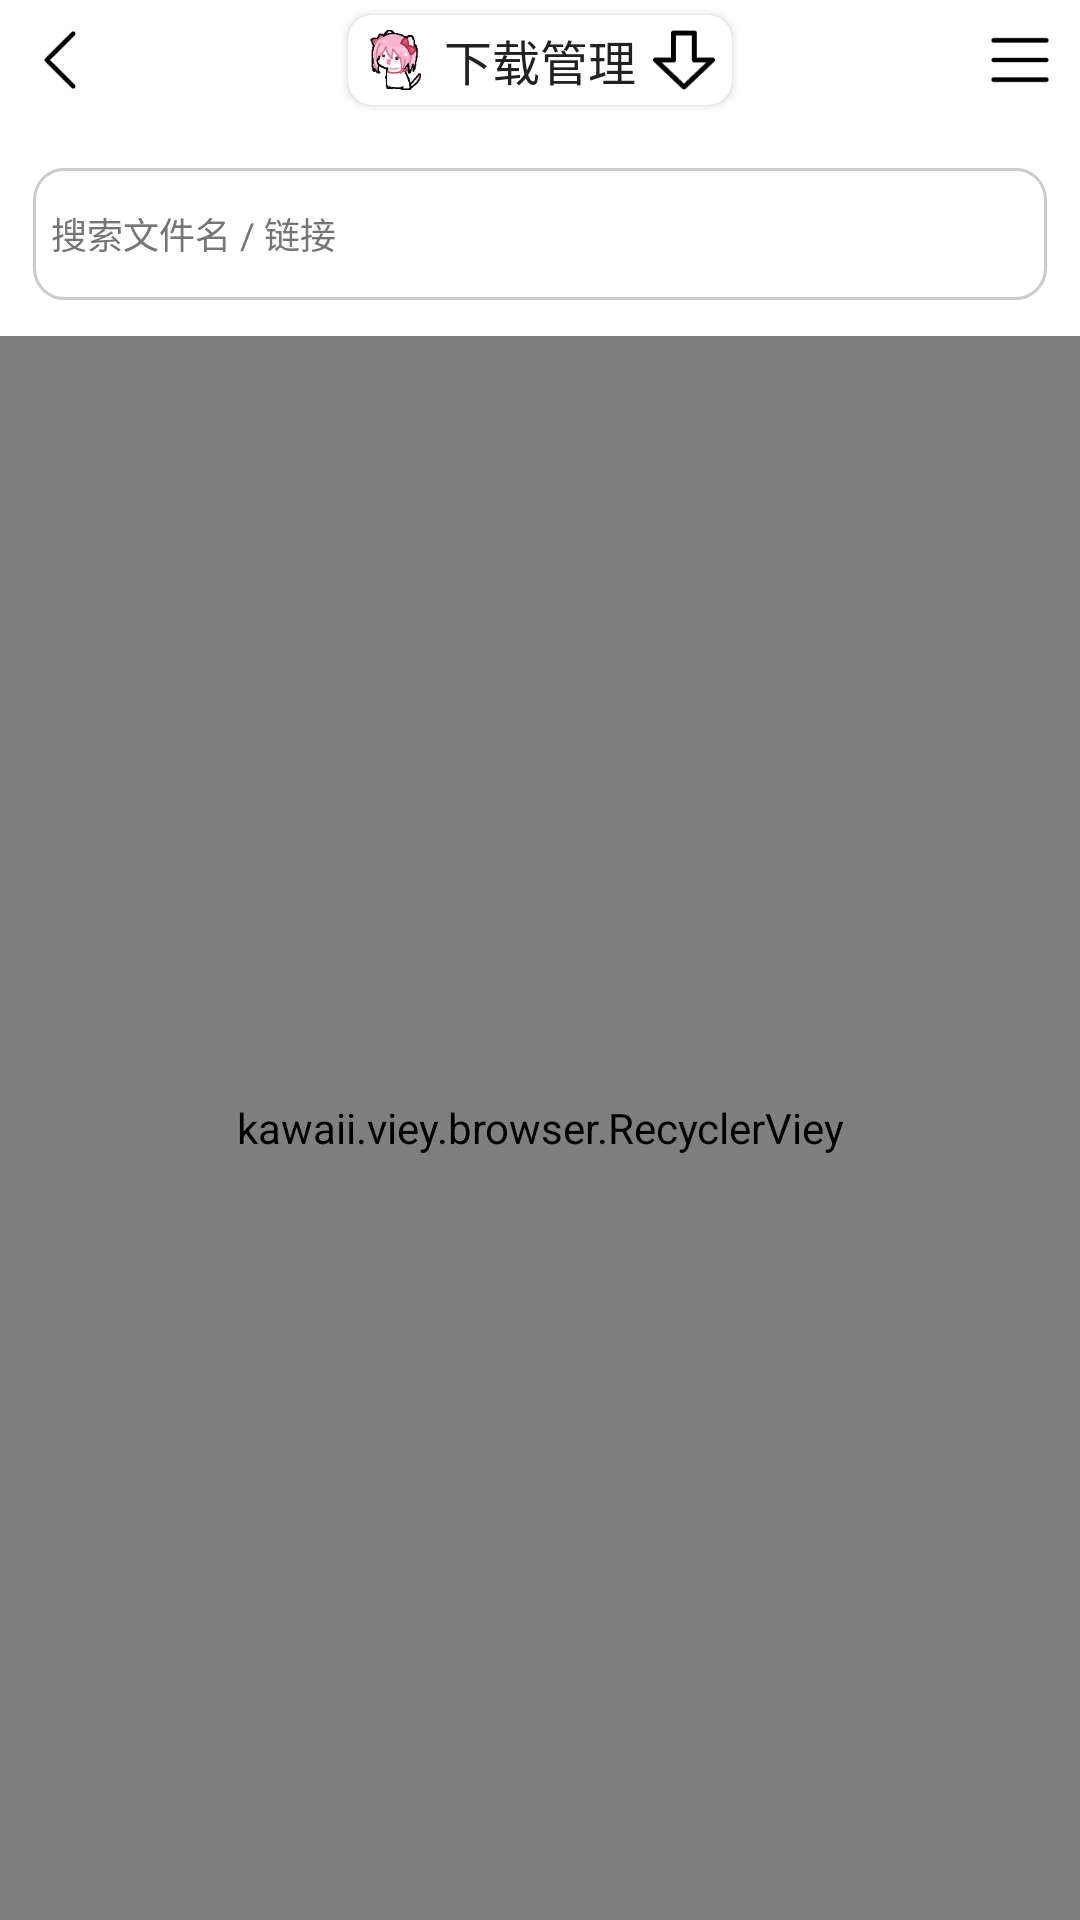

Named icons in this screenshot (1080×1920) and their centers, (x=x, y=y):
arrow back: (x=60, y=60)
download: (x=692, y=61)
menu: (x=1020, y=60)
